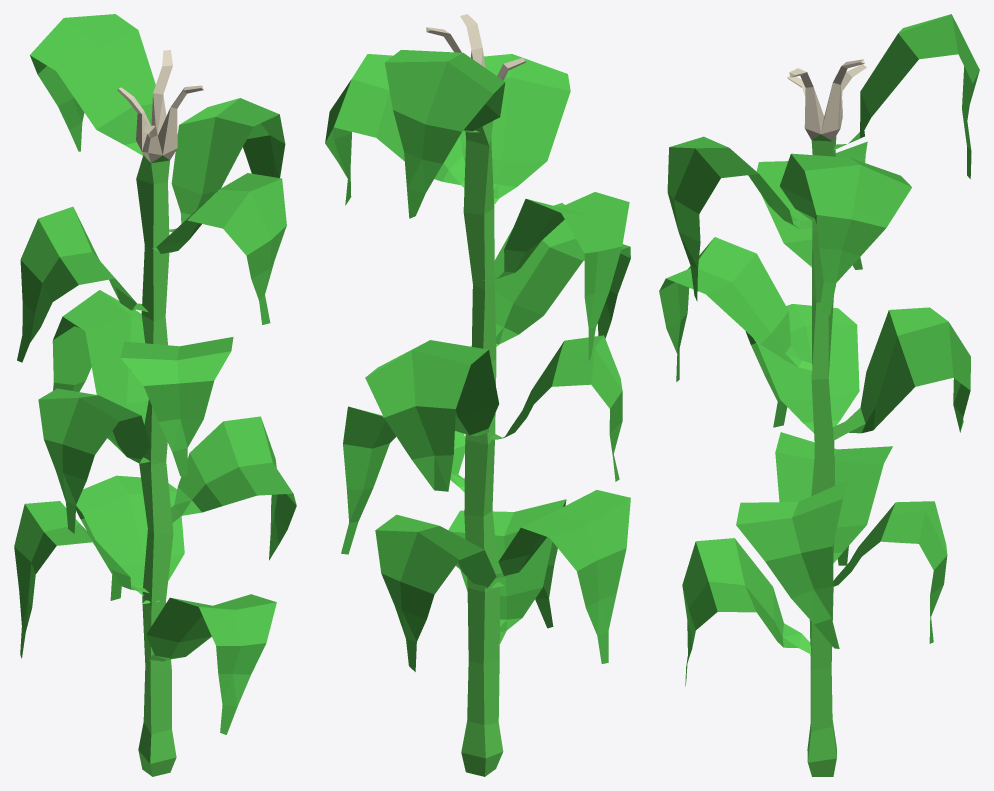
The model's file is SM_Prop_Plant_Corn_01_L_textured.fbx.
3 views of the same model, side by side, from view 1: azimuth 30°, elevation 25°; view 2: azimuth 150°, elevation 25°; view 3: azimuth 270°, elevation 25° (orthographic). The views are drawn at different scales.
Visible parts, largest first — view 1: SM_Prop_Plant_Corn_01_L; view 2: SM_Prop_Plant_Corn_01_L; view 3: SM_Prop_Plant_Corn_01_L.
Part boxes in pixels (x1,y1,x2,y2): SM_Prop_Plant_Corn_01_L: [14, 14, 296, 776]; SM_Prop_Plant_Corn_01_L: [325, 14, 630, 776]; SM_Prop_Plant_Corn_01_L: [659, 14, 979, 776].
Size of the model in its own units: 82.06 by 219 by 85.56.
1 material, 1 textured.
